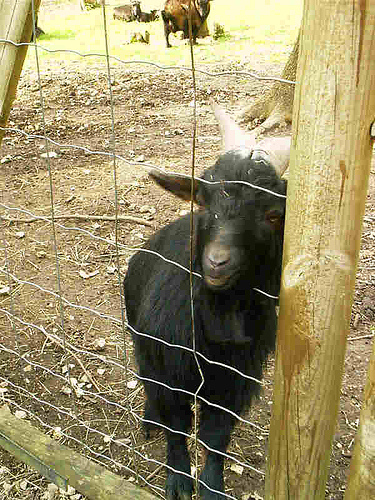goat: (121, 98, 291, 500)
